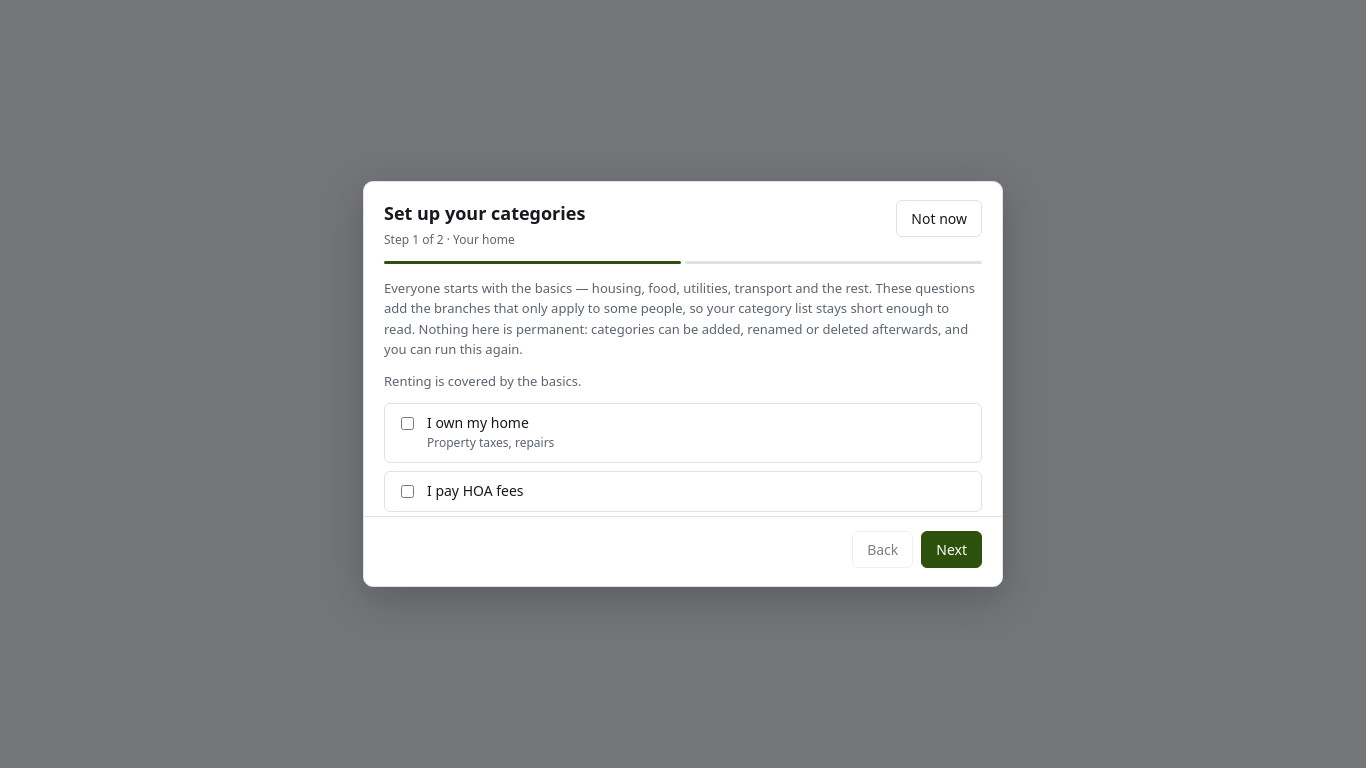
when setup has never been run › walks forward through the steps and back again
The width and height of the screenshot is (1366, 768).
Expected: the dialog is shown, top-left (363, 181), bottom-right (1003, 587)
Click the button "Next" at {"x": 952, "y": 549}, box top-left (921, 531), bottom-right (982, 568)
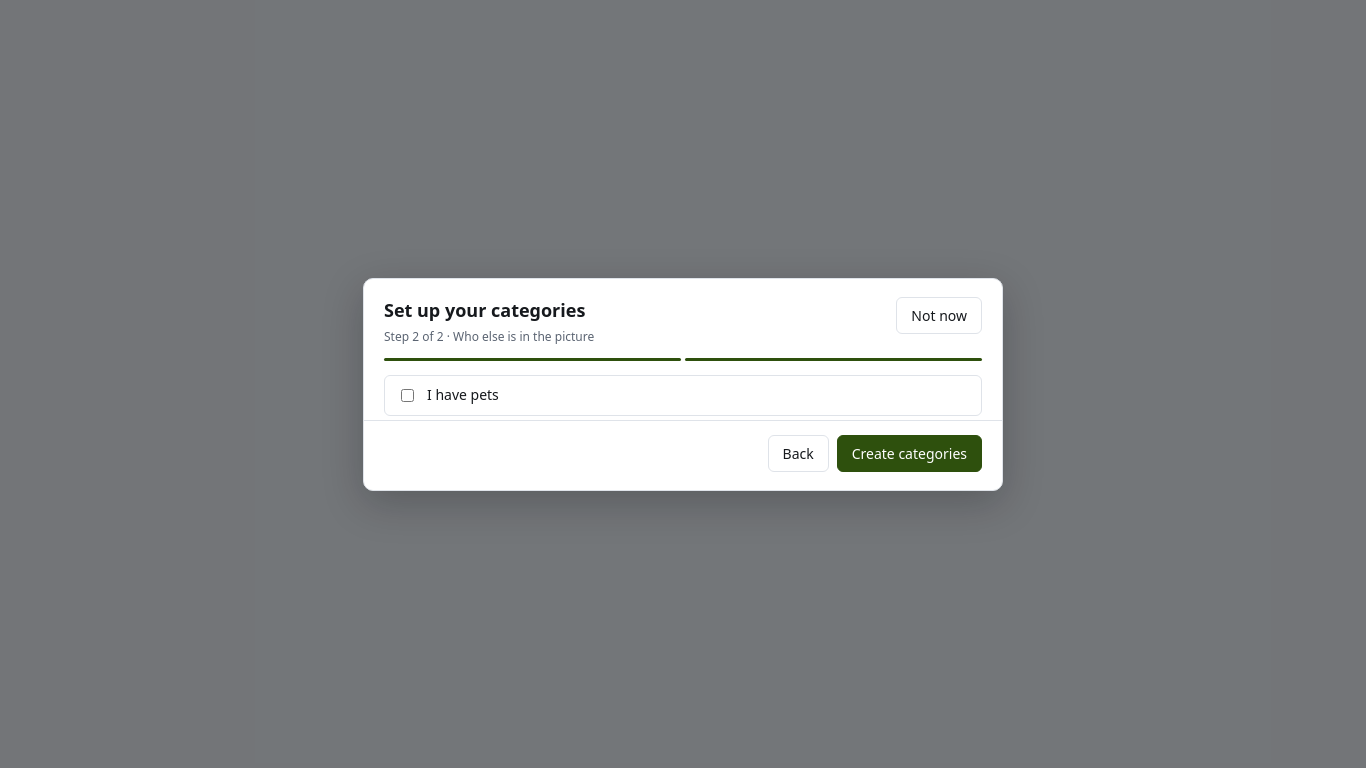
Expected: the text "I have pets" is shown, top-left (427, 386), bottom-right (499, 404)
Expected: the button "Next" is gone
Click the button "Back" at {"x": 798, "y": 453}, box top-left (768, 434), bottom-right (829, 472)
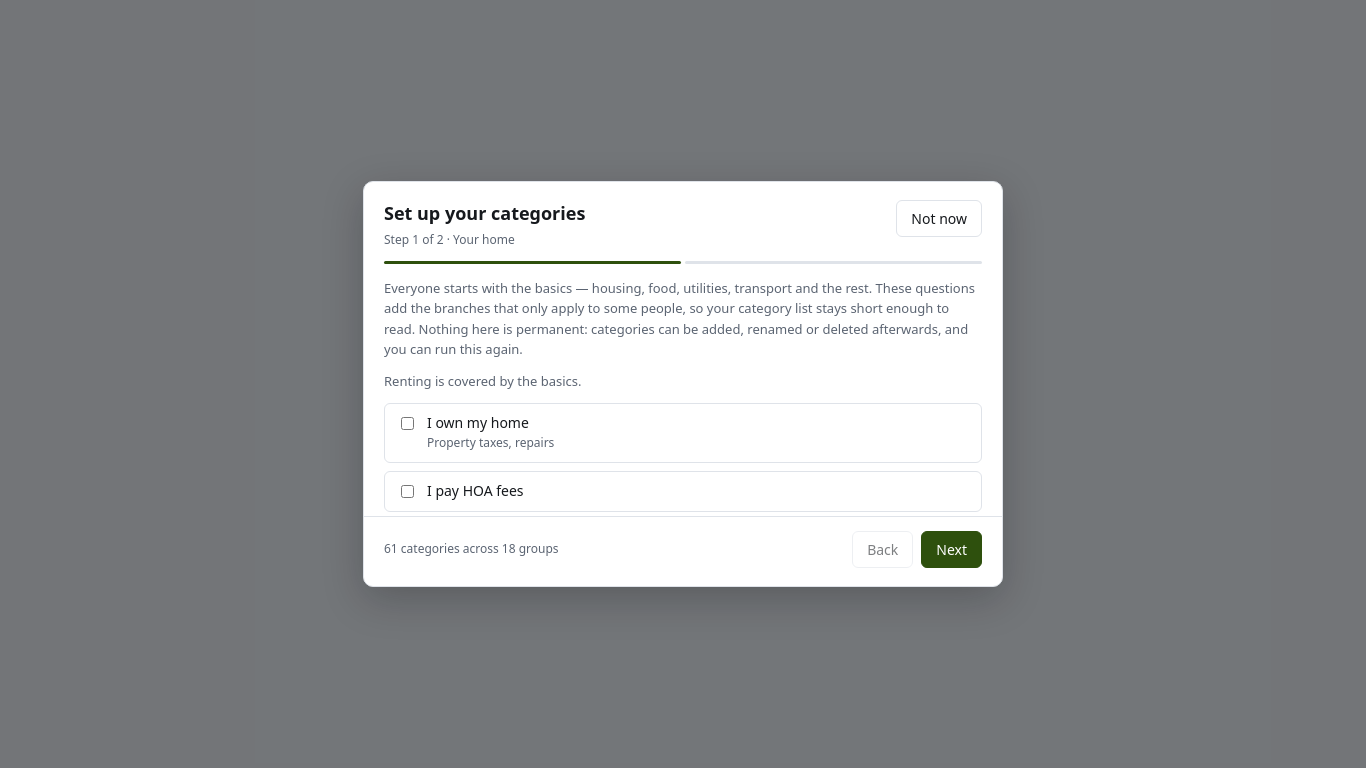
Expected: the text "I own my home" is shown, top-left (427, 413), bottom-right (529, 432)
